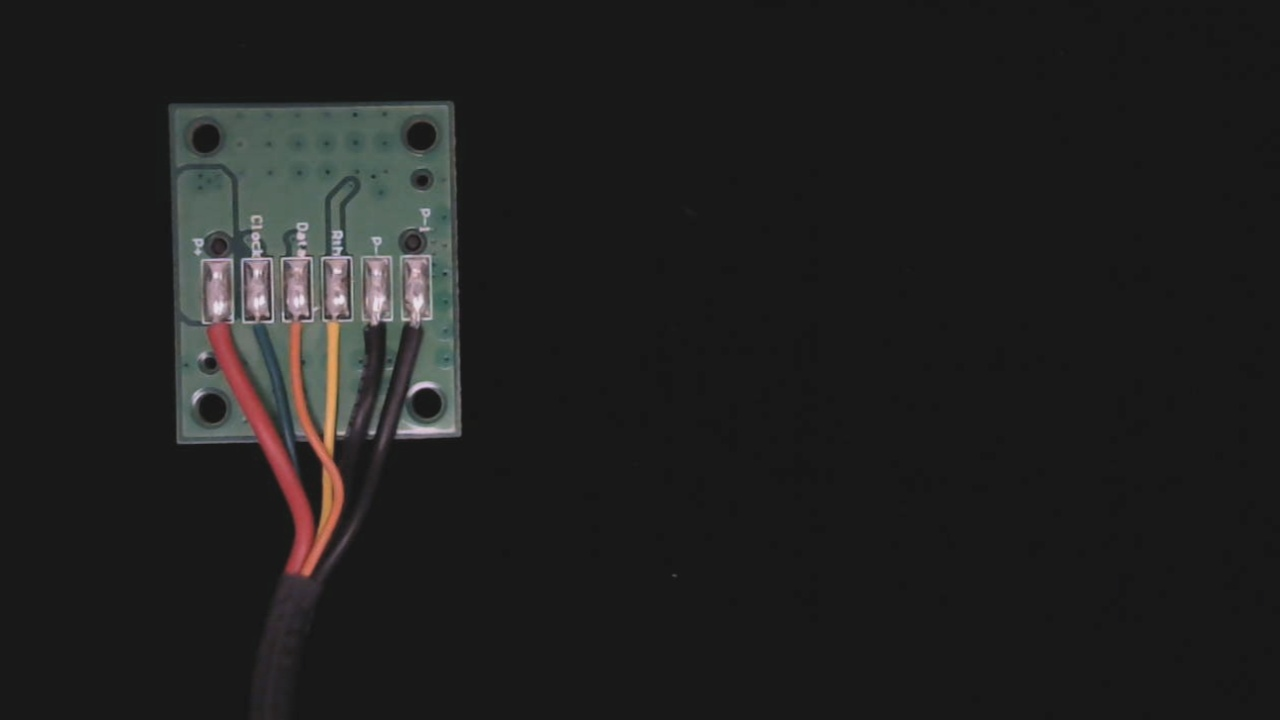Black: (369, 302, 400, 362)
Black1: (408, 302, 442, 361)
Green: (247, 303, 279, 358)
Orange: (287, 302, 316, 362)
Red: (200, 307, 237, 366)
Yellow: (327, 301, 357, 363)
